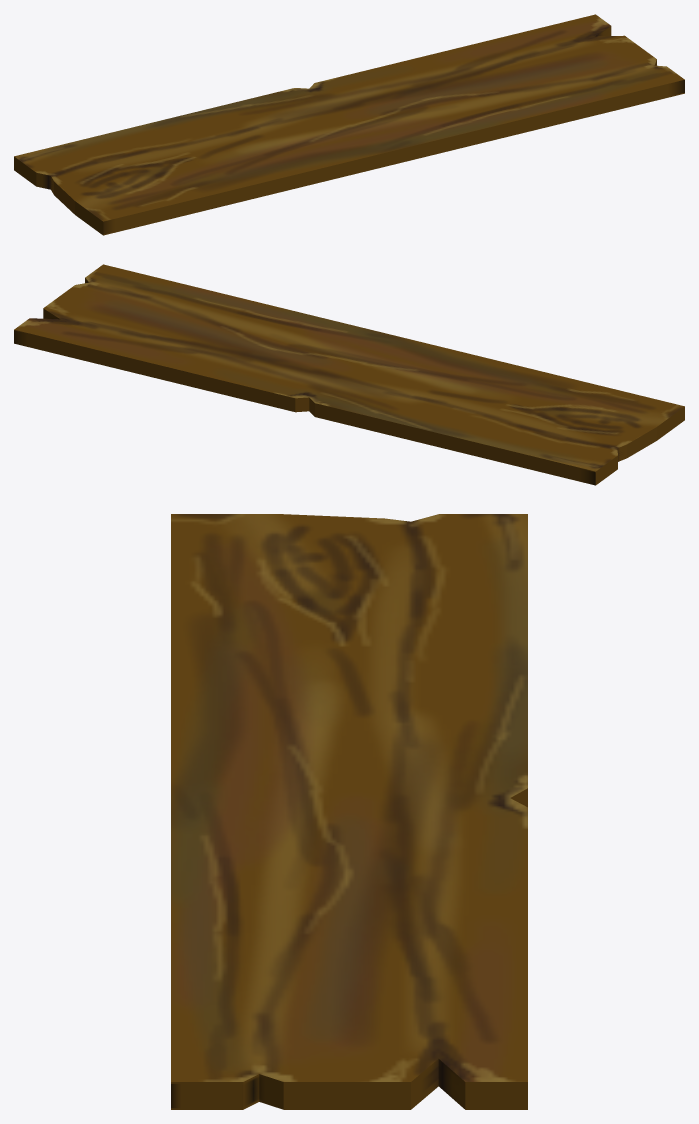
File: wooden_planks.fbx
The picture shows the model from 3 angles, top to bottom: view 1: azimuth 30°, elevation 25°; view 2: azimuth 150°, elevation 25°; view 3: azimuth 270°, elevation 25°; orthographic projection. The views are drawn at different scales.
Visible parts, largest first — view 1: Cube; view 2: Cube; view 3: Cube.
Boxes of the visible parts, box(x1,y1,x2,y2) form: Cube: box(14, 14, 684, 235); Cube: box(14, 264, 684, 485); Cube: box(171, 514, 527, 1109).
Size of the model in its own units: 200 by 4.57 by 53.12.
